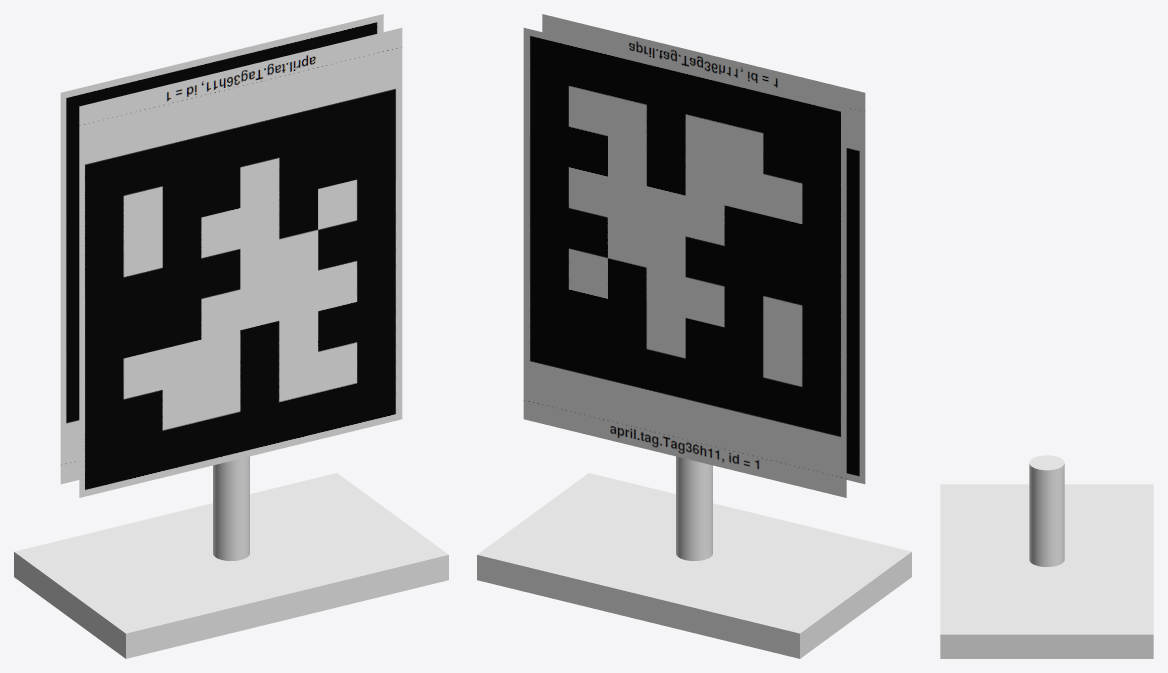
Rendered from tag1.dae.
3 renders of one model, left to right at view 1: azimuth 30°, elevation 25°; view 2: azimuth 150°, elevation 25°; view 3: azimuth 270°, elevation 25°, orthographic. The views are drawn at different scales.
Visible parts, largest first — view 1: image_2, tag (×3), image_1; view 2: image_1, tag (×3), image_2, image_0; view 3: tag (×3), image_0.
Part boxes in pixels (x1=…): image_2: x1=79, y1=28, x2=402, y2=497; tag (×3): x1=14, y1=456, x2=448, y2=658; image_1: x1=60, y1=14, x2=383, y2=484; image_1: x1=523, y1=28, x2=846, y2=497; tag (×3): x1=477, y1=456, x2=911, y2=658; image_2: x1=542, y1=14, x2=865, y2=484; image_0: x1=712, y1=581, x2=808, y2=619; tag (×3): x1=940, y1=455, x2=1153, y2=658; image_0: x1=1078, y1=504, x2=1135, y2=529.
Bounding box in the file's own units: 7.87 × 4.72 × 12.07.
Materials: 4 (2 with a texture image).
